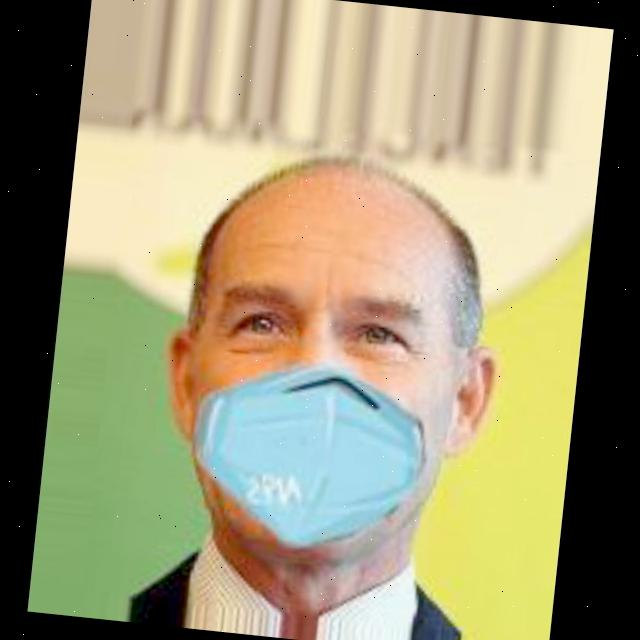suspicion: (142, 126, 495, 604)
